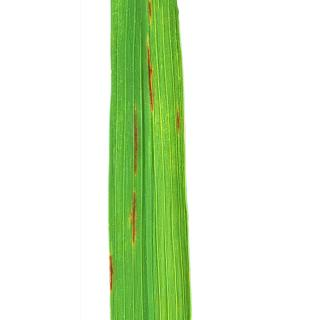Bercak-Cokelat-Sempit: (141, 28, 160, 102), (131, 104, 140, 180), (128, 190, 140, 244), (108, 248, 118, 294), (175, 105, 188, 135), (148, 1, 162, 21)
